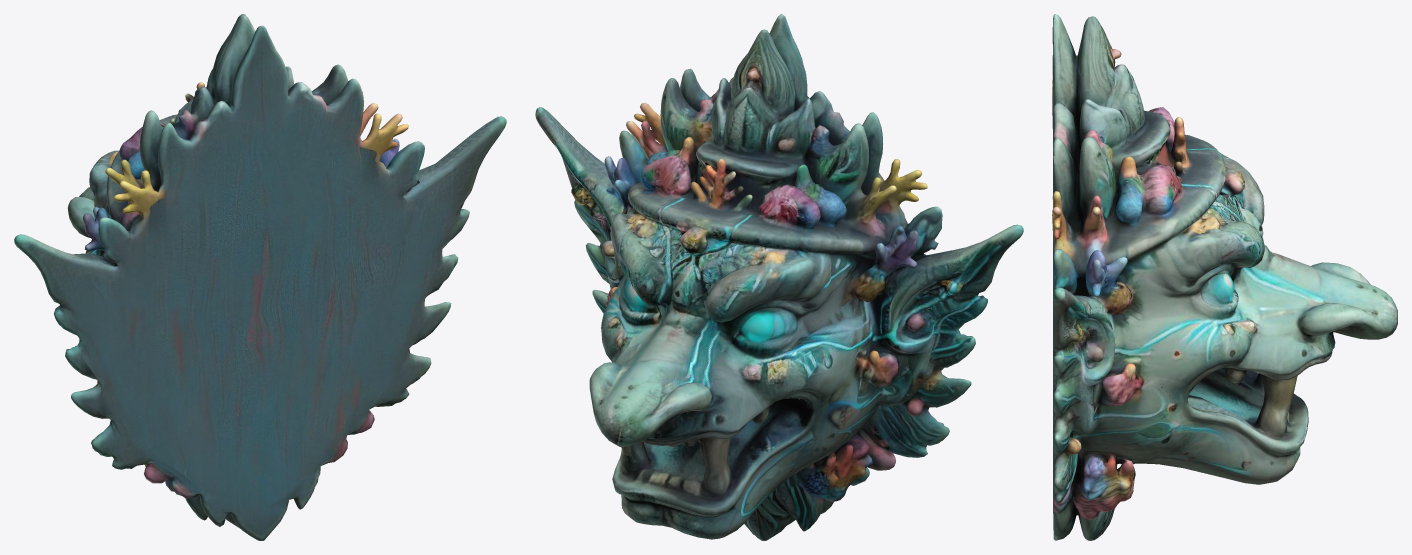
File: leviathan.glb
3 views of the same model, side by side, from view 1: azimuth 30°, elevation 25°; view 2: azimuth 150°, elevation 25°; view 3: azimuth 270°, elevation 25° (orthographic). The views are drawn at different scales.
Visible parts, largest first — view 1: leviathan; view 2: leviathan; view 3: leviathan.
Part boxes in pixels (left/top/right/bottom): leviathan: left=14, top=14, right=506, bottom=540; leviathan: left=535, top=14, right=1023, bottom=540; leviathan: left=1052, top=14, right=1397, bottom=540.
Bounding box in the file's own units: 0.9931 × 1 × 0.5953.
1 material, 1 textured.
